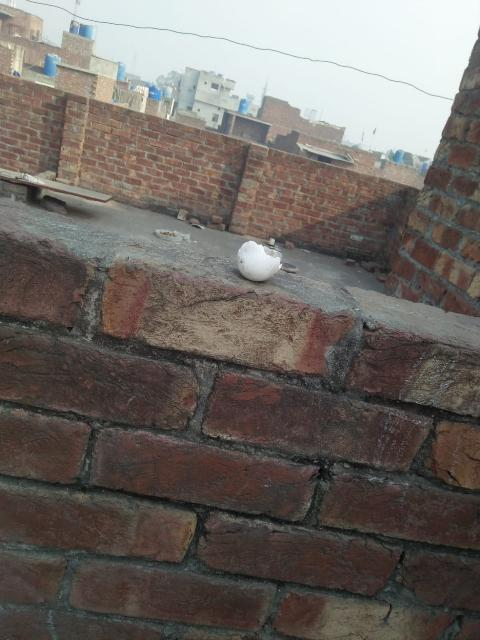Roto: (236, 239, 282, 282)
